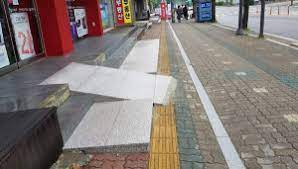guide_blocks: (148, 105, 180, 169), (158, 24, 169, 75)
